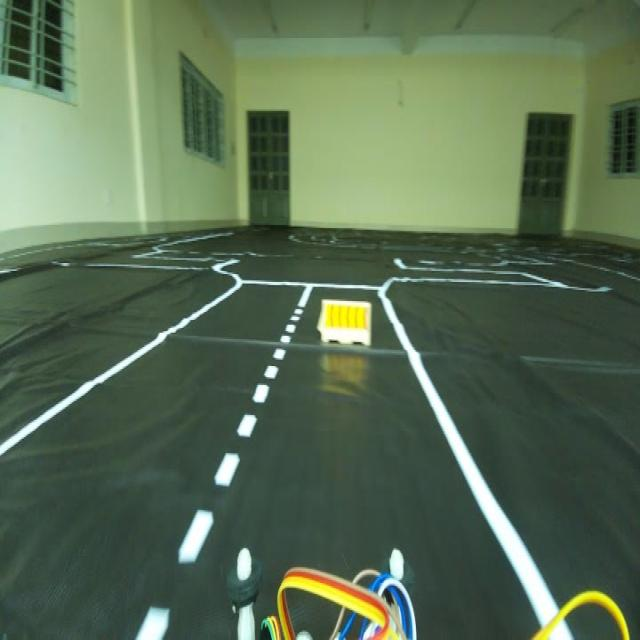roadblock: (313, 291, 379, 362)
